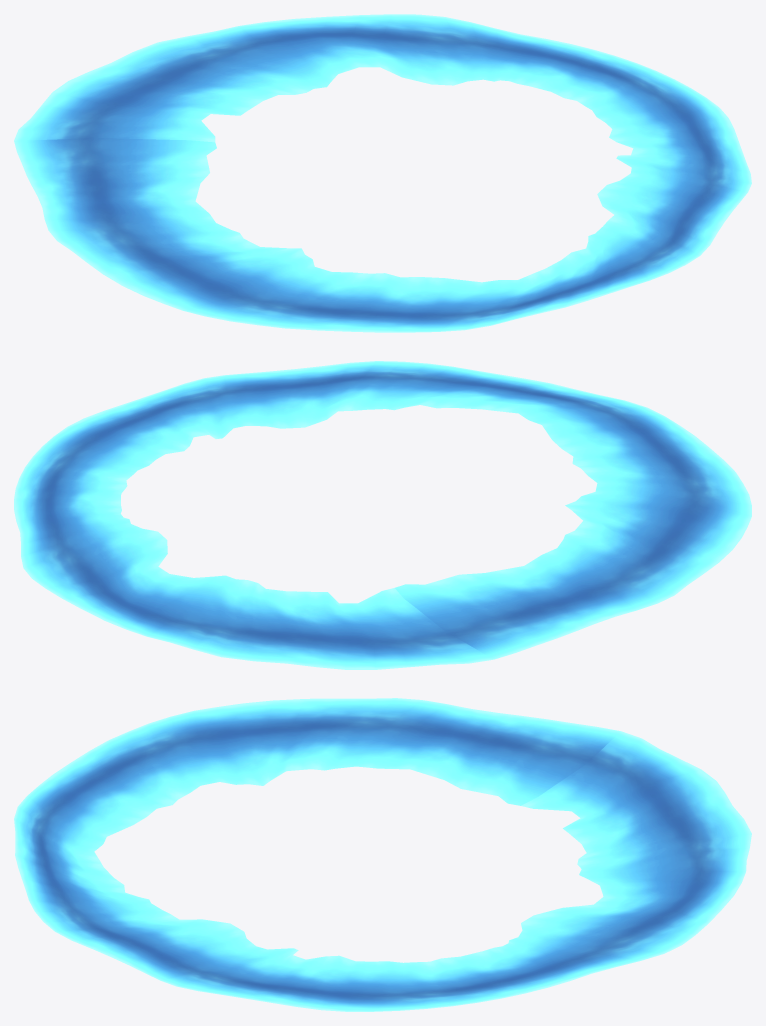
The model's file is water_boss_Arena.gltf.
3 views of the same model, one above another, from view 1: azimuth 30°, elevation 25°; view 2: azimuth 150°, elevation 25°; view 3: azimuth 270°, elevation 25° (orthographic).
Parts seen in each view (by area): view 1: Plane.046; view 2: Plane.046; view 3: Plane.046.
Part boxes in pixels (left/top/right/bottom): Plane.046: left=14, top=14, right=751, bottom=332; Plane.046: left=14, top=361, right=751, bottom=669; Plane.046: left=14, top=698, right=751, bottom=1011.
Size of the model in its own units: 51.37 by 0.3904 by 51.67.
1 material, 1 textured.
